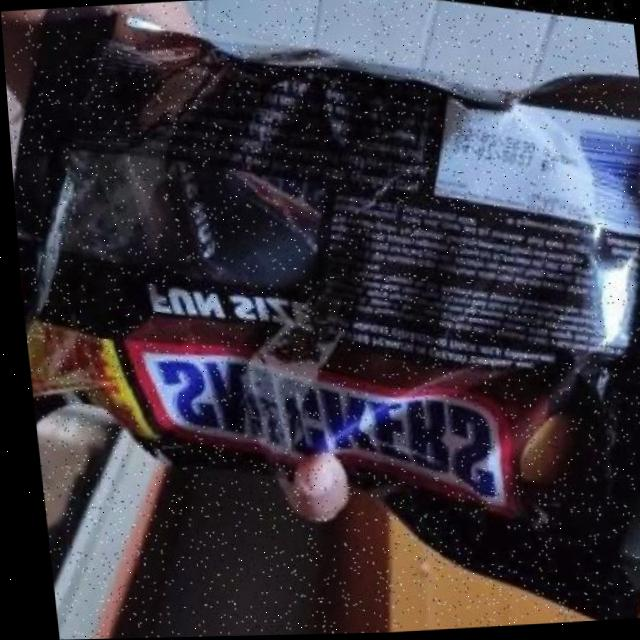Dry: (301, 78, 640, 635), (0, 0, 377, 485)
